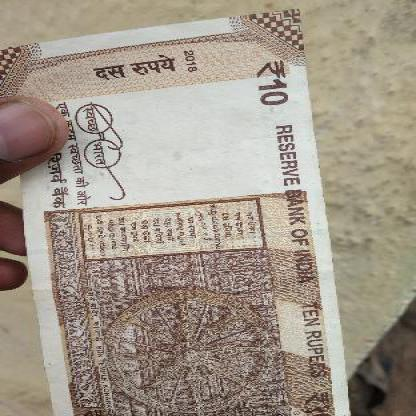New10Back: (0, 7, 354, 404)
